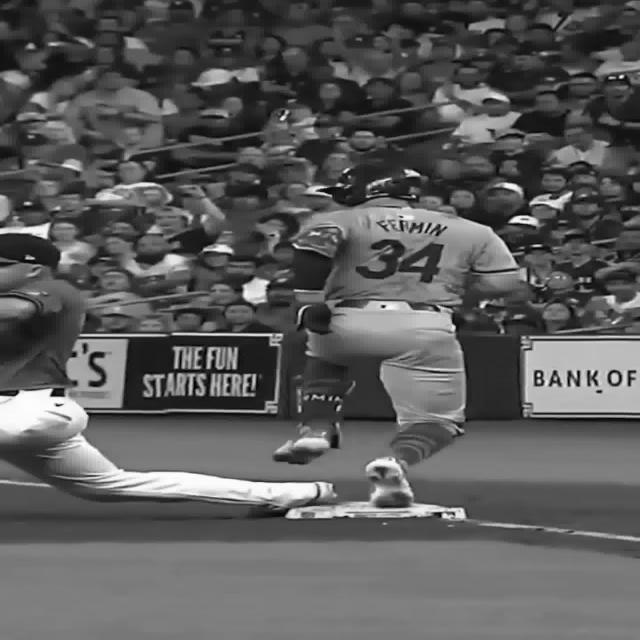base: (287, 501, 470, 521)
shoe: (248, 480, 336, 518), (272, 422, 340, 464), (364, 456, 414, 507)
